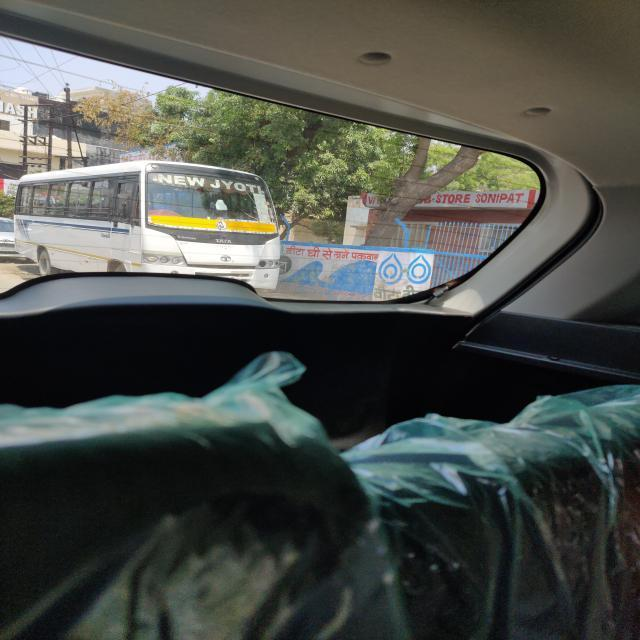bus_front: (12, 146, 293, 302)
